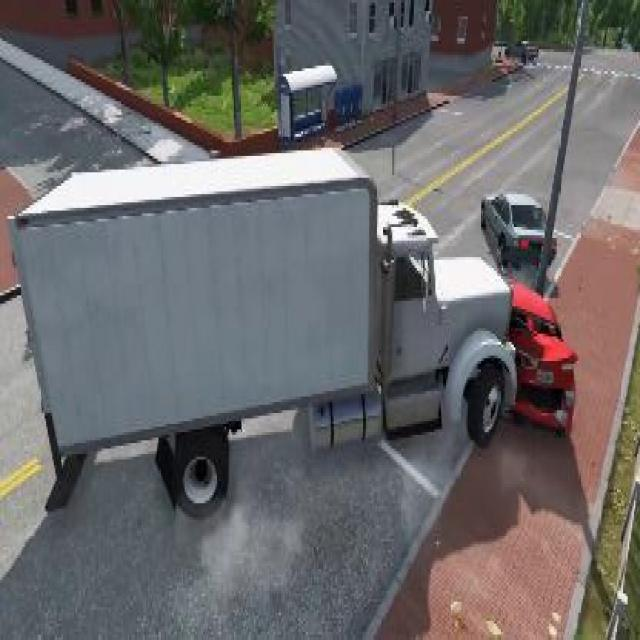accident: (2, 148, 580, 528)
